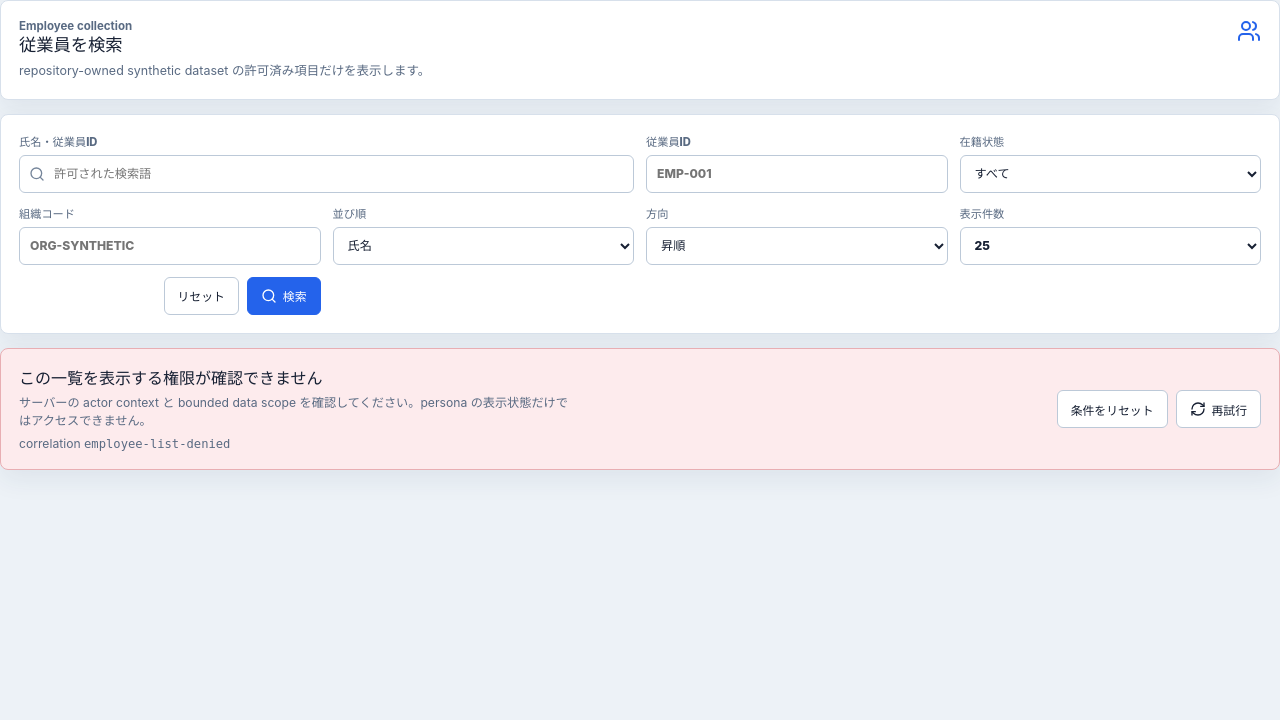
Test: employee list screen › shows actionable denied and network retry states without fixtures
Expected: the text "この一覧を表示する権限が確認できません" is shown, [19,368,322,388]
Expected: the text "employee-list-denied" is shown, [84,437,230,451]
What coordinates should you click on to do the following:
click the button "再試行"
I would click on:
 (1218, 409)
Its box is [1176,390,1261,428].
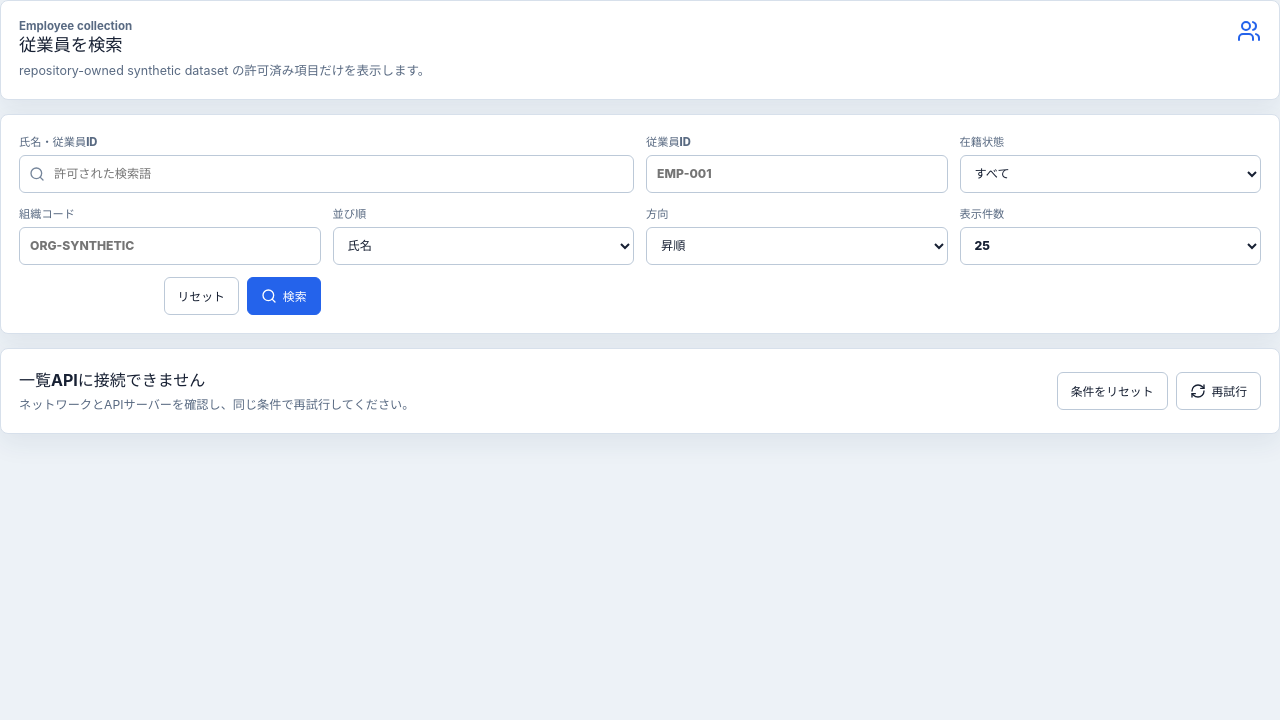
Expected: the text "一覧APIに接続できません" is shown, [19,370,205,390]
What coordinates should you click on to do the following:
click the button "再試行"
I would click on:
 (1218, 391)
Its box is [1176,372,1261,410].
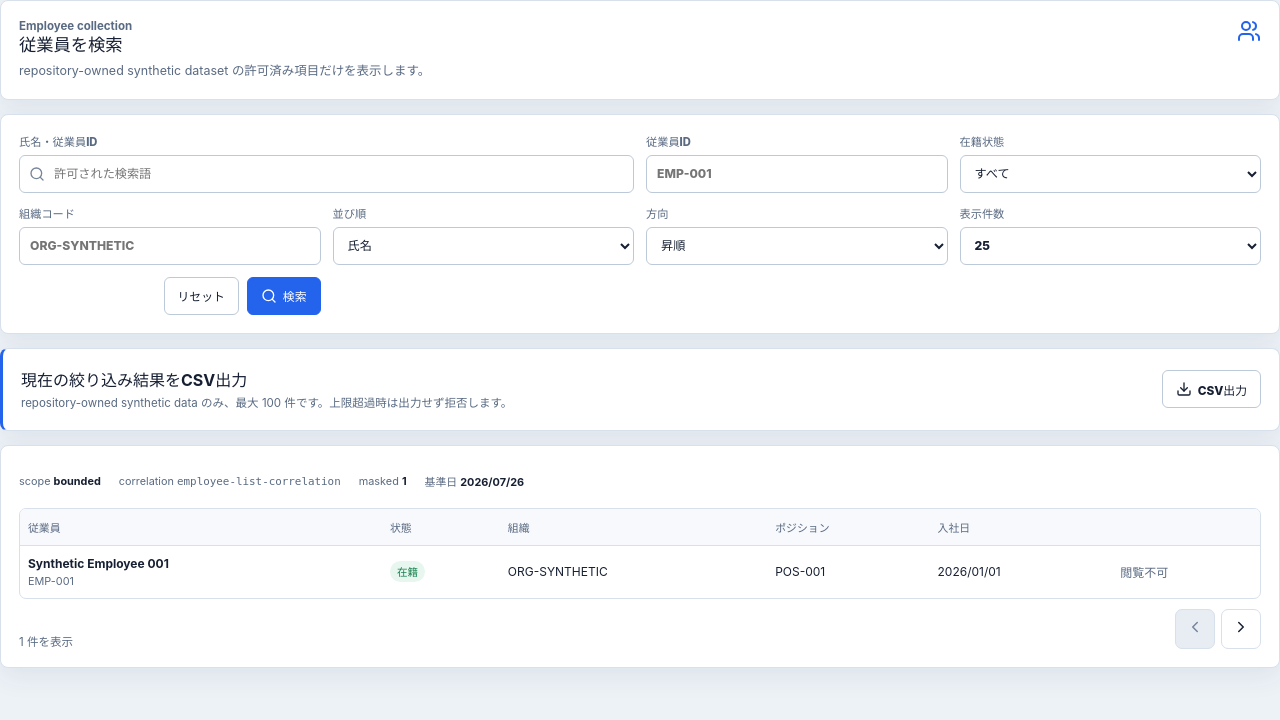
Expected: the text "Synthetic Employee 001" is shown, [28,556,169,571]
